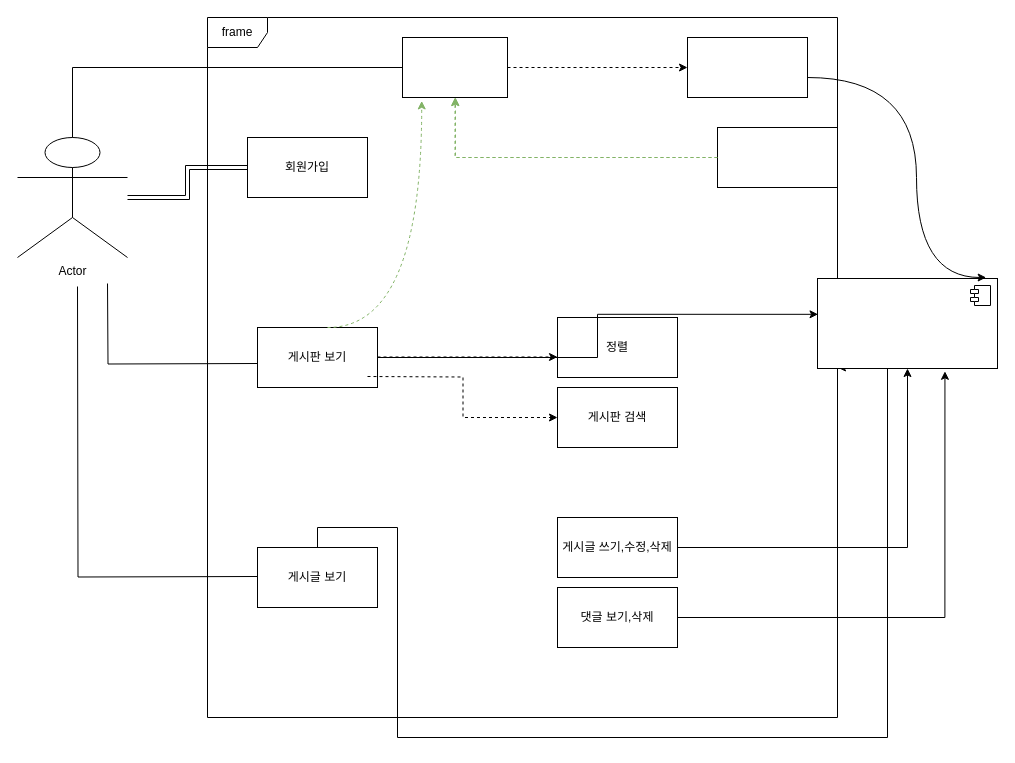
The diagram is 1015 pixels wide and 763 high, and some of its shapes have lost their labels. Each missing label, with the centre of its shape:
"DB" goes at (907,323).
"로그인 실패" goes at (777,157).
"인증" goes at (747,67).
"회원 로그인" goes at (455,67).
